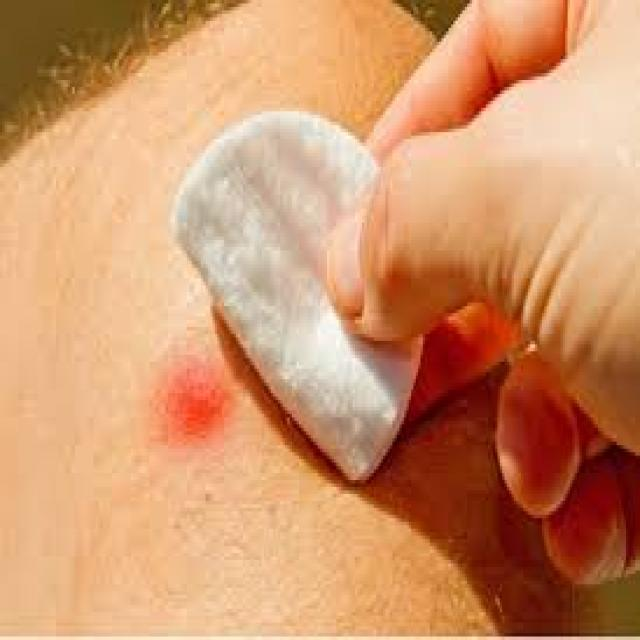kene: (159, 351, 238, 447)
